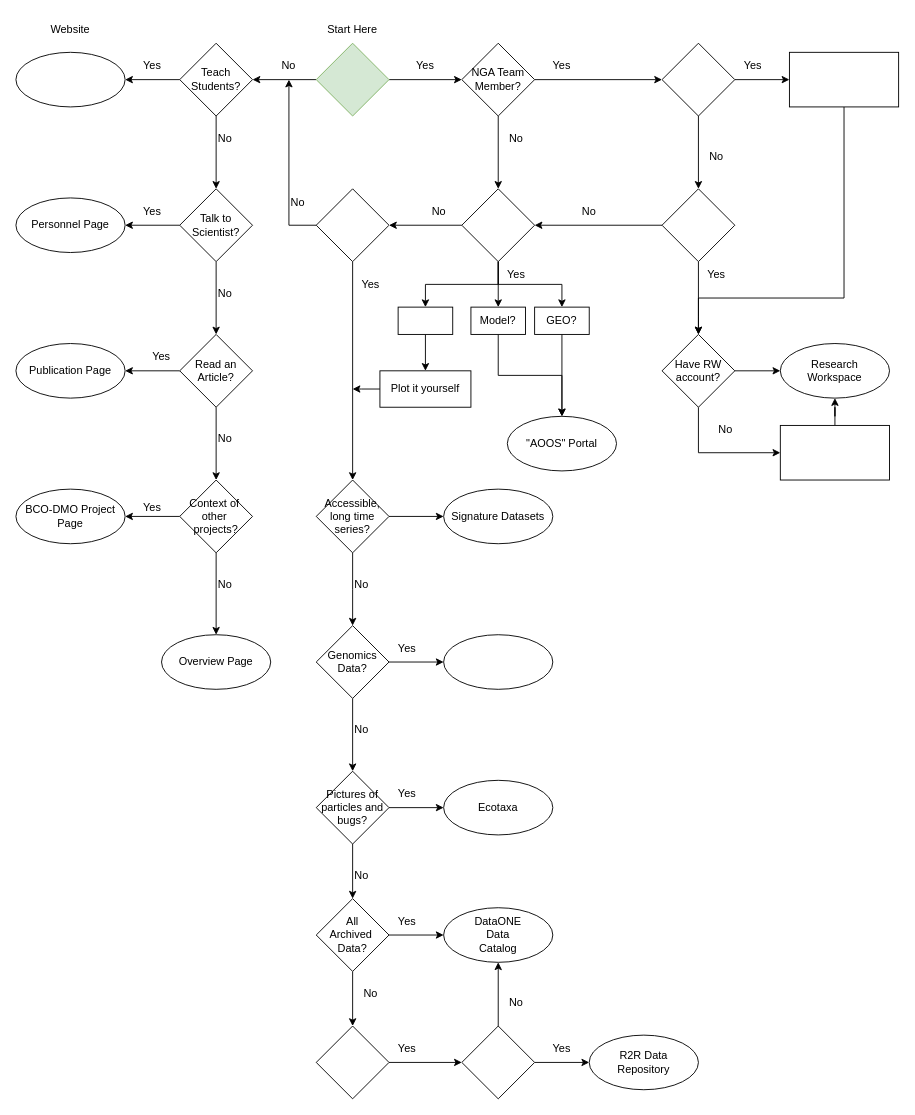
Image size: 915x1115. Some labels were removed from this diagram. The centre of each missing label's shape, as x and y in pixels:
"Data?" belongs at (x=352, y=79).
"Discover preliminary data" belongs at (x=698, y=225).
"Education Page" belongs at (x=70, y=79).
"Explore Data?" belongs at (x=352, y=225).
"Jenn's Genomics thing" belongs at (x=498, y=661).
"Make an RW account" belongs at (x=834, y=452).
"Other" belongs at (x=425, y=320).
"Raw Data?" belongs at (x=352, y=1062).
"Submit data?" belongs at (x=698, y=79).
"Talk to Chris" belongs at (x=844, y=79).
"UNOLS Vessel?" belongs at (x=498, y=1062).
"Visualize Data?" belongs at (x=498, y=225).
